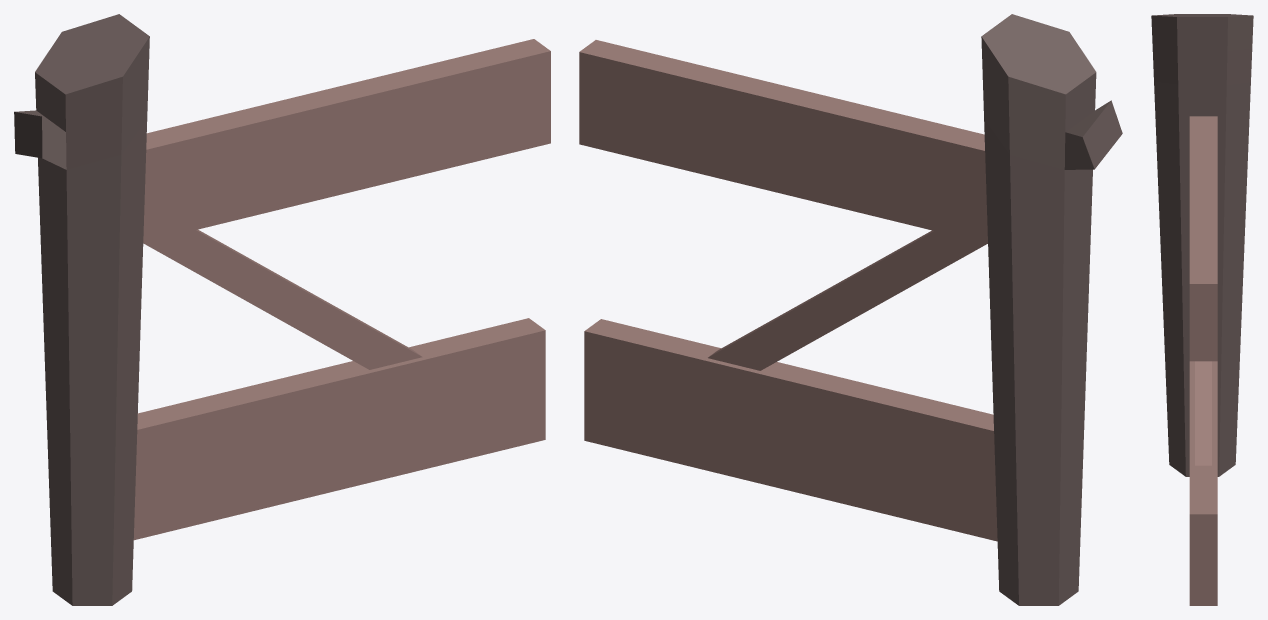
The model's file is fence1.fbx.
3 renders of one model, left to right at view 1: azimuth 30°, elevation 25°; view 2: azimuth 150°, elevation 25°; view 3: azimuth 270°, elevation 25°, orthographic. The views are drawn at different scales.
Visible parts, largest first — view 1: Props_fences; view 2: Props_fences; view 3: Props_fences.
Boxes of the visible parts, <box> form: Props_fences: <box>14,14,550,605</box>; Props_fences: <box>579,14,1122,605</box>; Props_fences: <box>1151,14,1253,605</box>.
Bounding box in the file's own units: 134 × 137 × 27.31.
